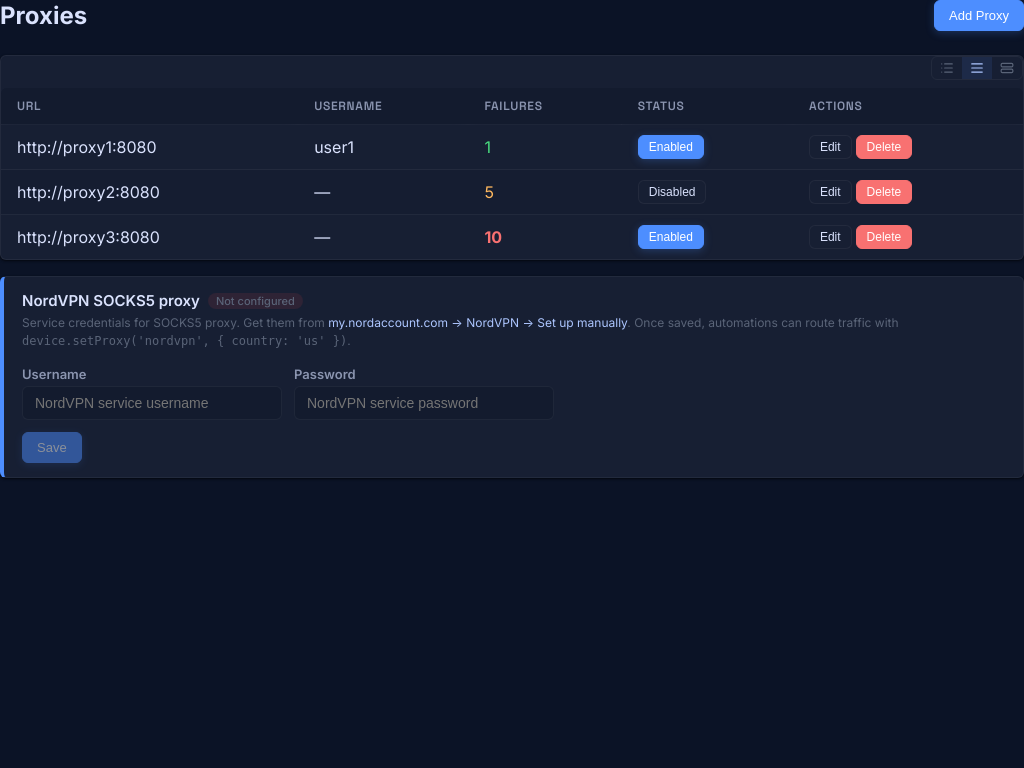
Test: Proxies › opens edit proxy modal
What coordinates should you click on to do the following:
click the button with test id "edit-1"
I would click on:
 (830, 147)
Its box is [809, 135, 852, 159].
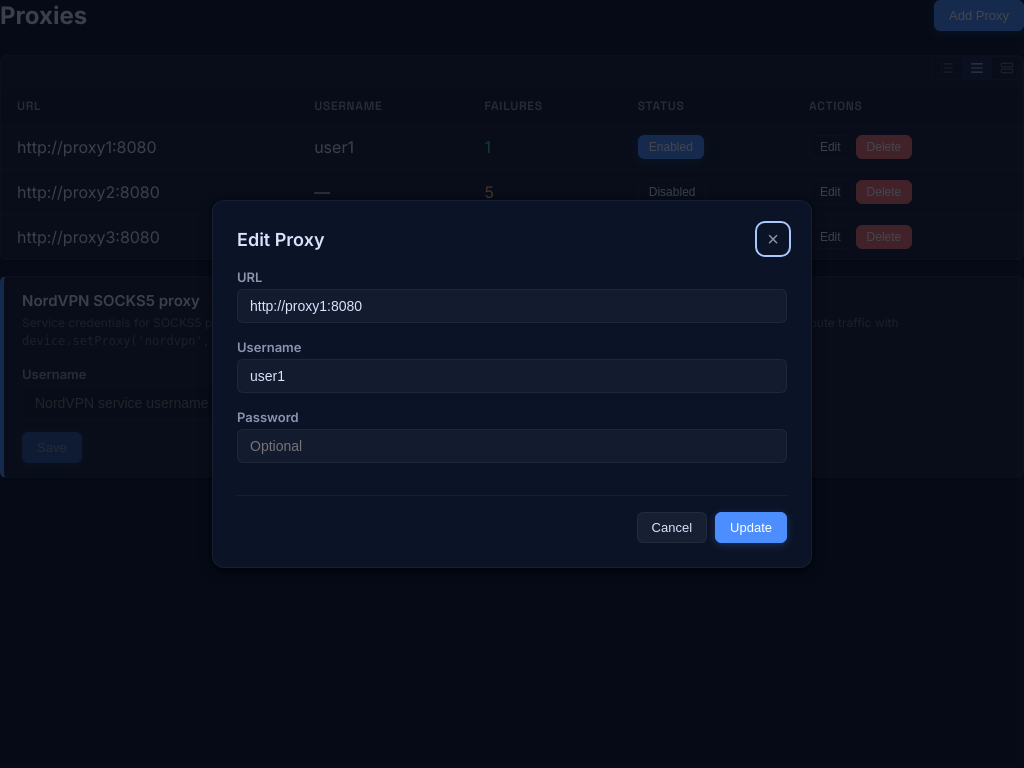
Expected: the element with test id "modal" is shown, [212, 200, 812, 568]
Expected: the heading "Edit Proxy" is shown, [237, 228, 324, 250]
